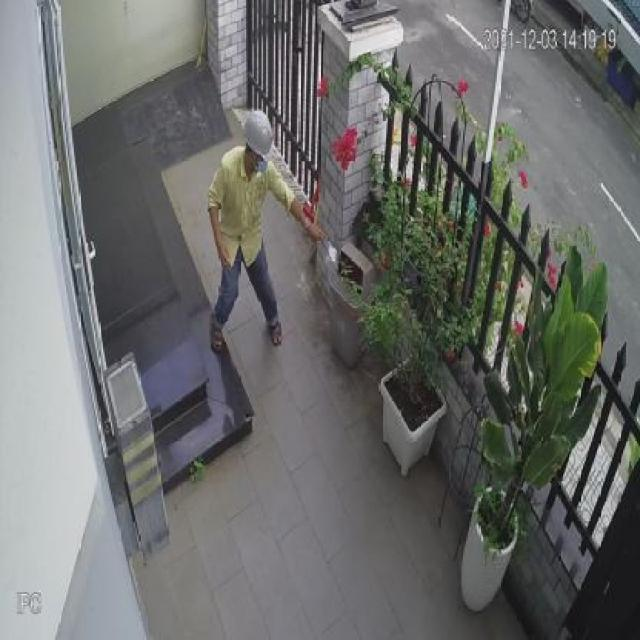obstacle: (207, 108, 328, 364)
